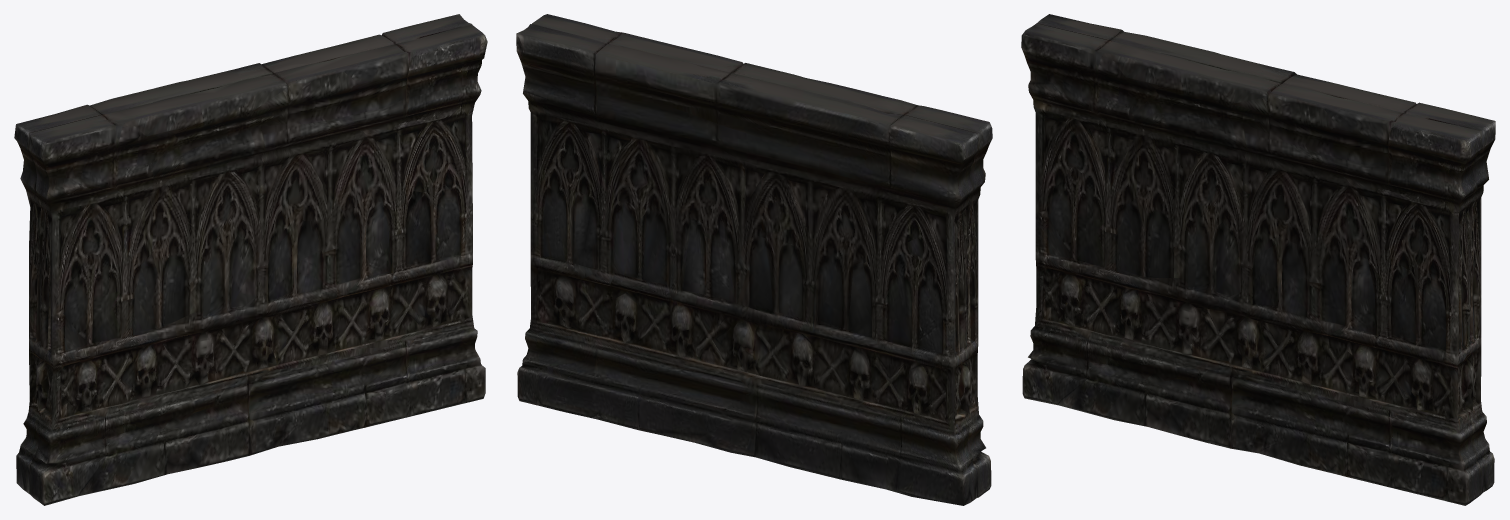
The model's file is frieze.glb.
3 renders of one model, left to right at view 1: azimuth 30°, elevation 25°; view 2: azimuth 150°, elevation 25°; view 3: azimuth 330°, elevation 25°, orthographic.
Parts seen in each view (by area): view 1: frieze; view 2: frieze; view 3: frieze.
Part boxes in pixels (x1=…): frieze: x1=14, y1=14, x2=487, y2=505; frieze: x1=516, y1=14, x2=992, y2=505; frieze: x1=1021, y1=14, x2=1495, y2=505.
Bounding box in the file's own units: 5 × 3.9 × 0.55.
1 material, 1 textured.
